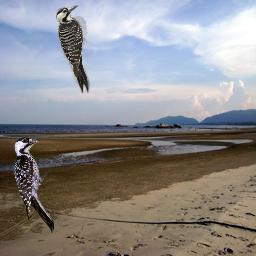Woodpecker: (13, 137, 54, 233), (56, 5, 90, 94)
